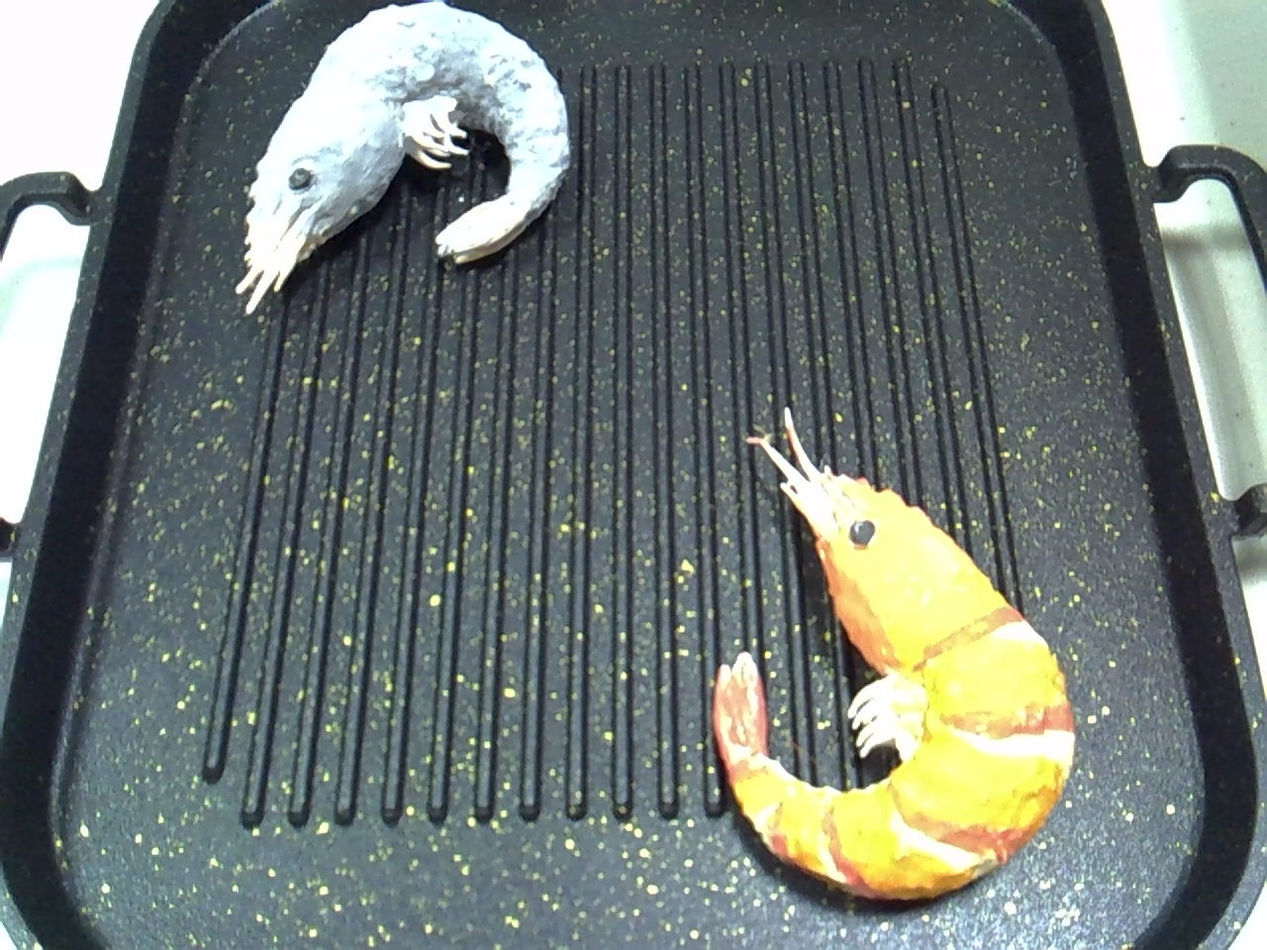S1 0: (210, 0, 585, 299)
S1 1: (665, 388, 1084, 925)
